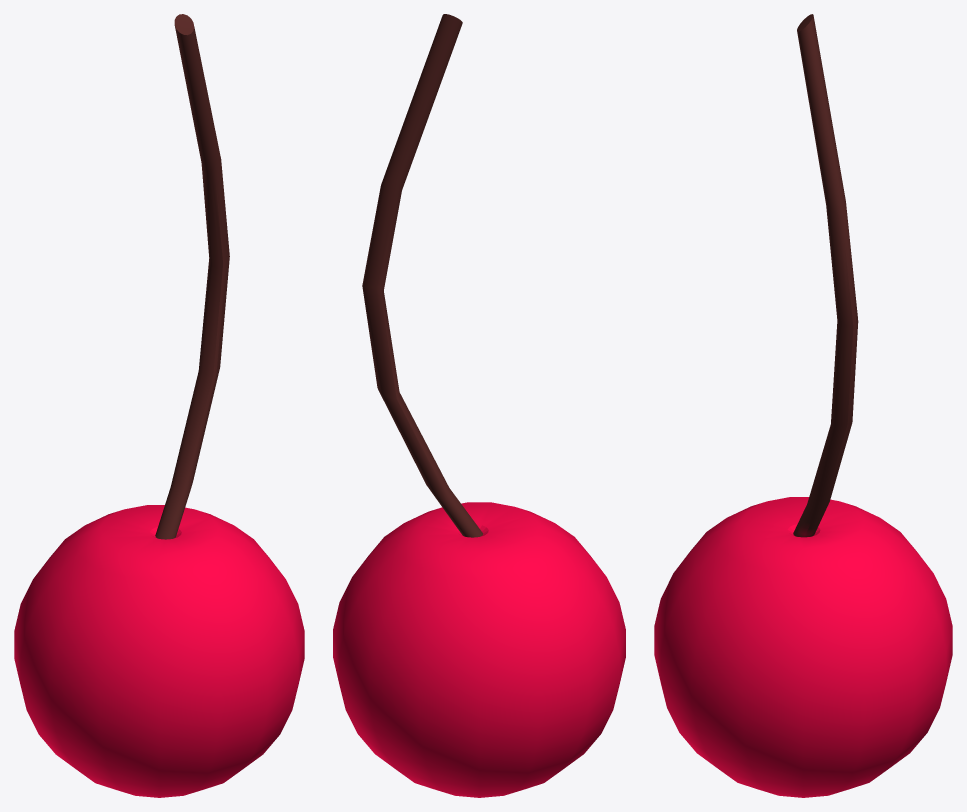
Rendered from cherry.glb.
3 renders of one model, left to right at view 1: azimuth 30°, elevation 25°; view 2: azimuth 150°, elevation 25°; view 3: azimuth 270°, elevation 25°, orthographic. The views are drawn at different scales.
Parts seen in each view (by area): view 1: pSphere1; view 2: pSphere1; view 3: pSphere1.
Boxes of the visible parts, x1,y1,x2,y2 form: pSphere1: (14,14,304,797); pSphere1: (333,14,625,797); pSphere1: (654,14,952,797).
Size of the model in its own units: 0.1155 by 0.3357 by 0.1162.
1 material, 1 textured.
